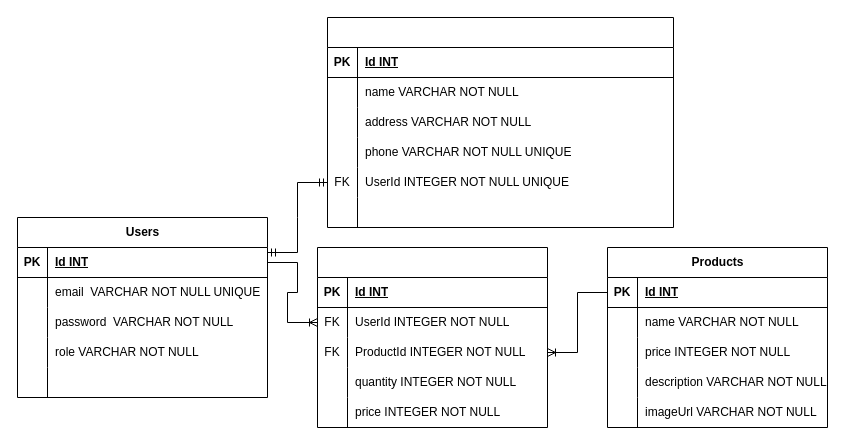
The diagram is 845 pixels wide and 445 high, and some of its shapes have lost their labels. Here are the shapes that lost their labels. From the top down, the box of each, then its label:
(326, 16, 674, 228): User Profiles
(316, 246, 548, 428): Transactions
